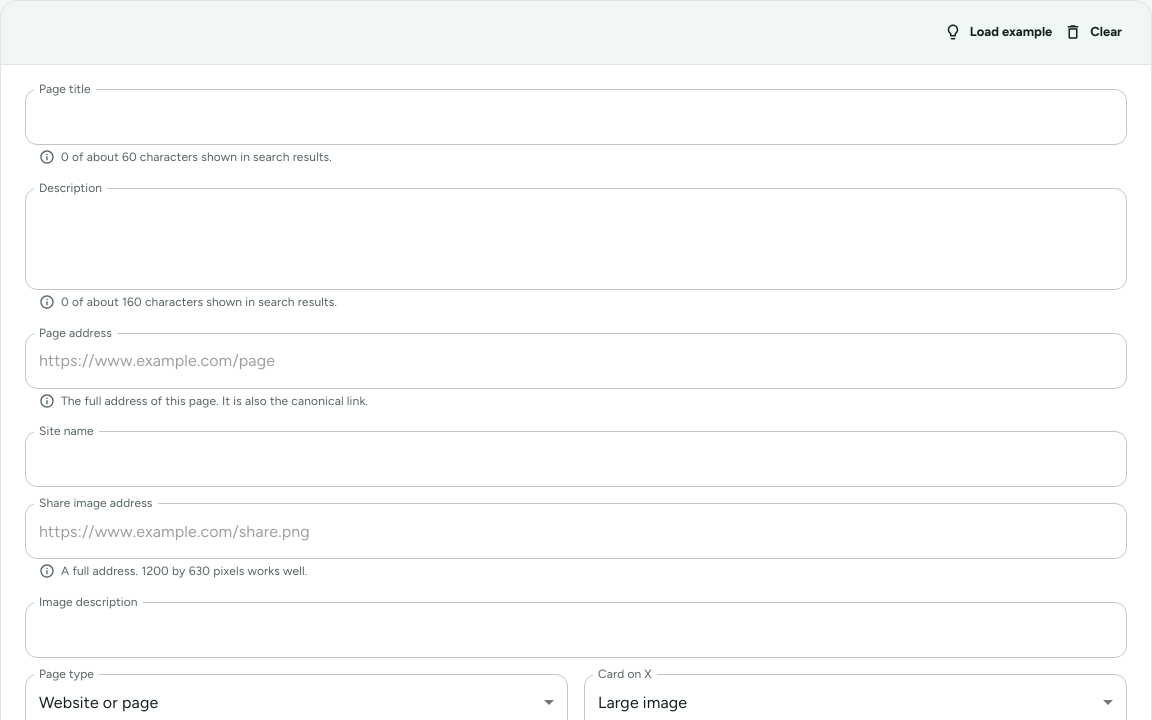
Test case: MetaTagTool › loads a complete example that raises no problems, and clears it again
Step 1. Click the button "Load example" → point(999, 32), box [941, 17, 1057, 48]
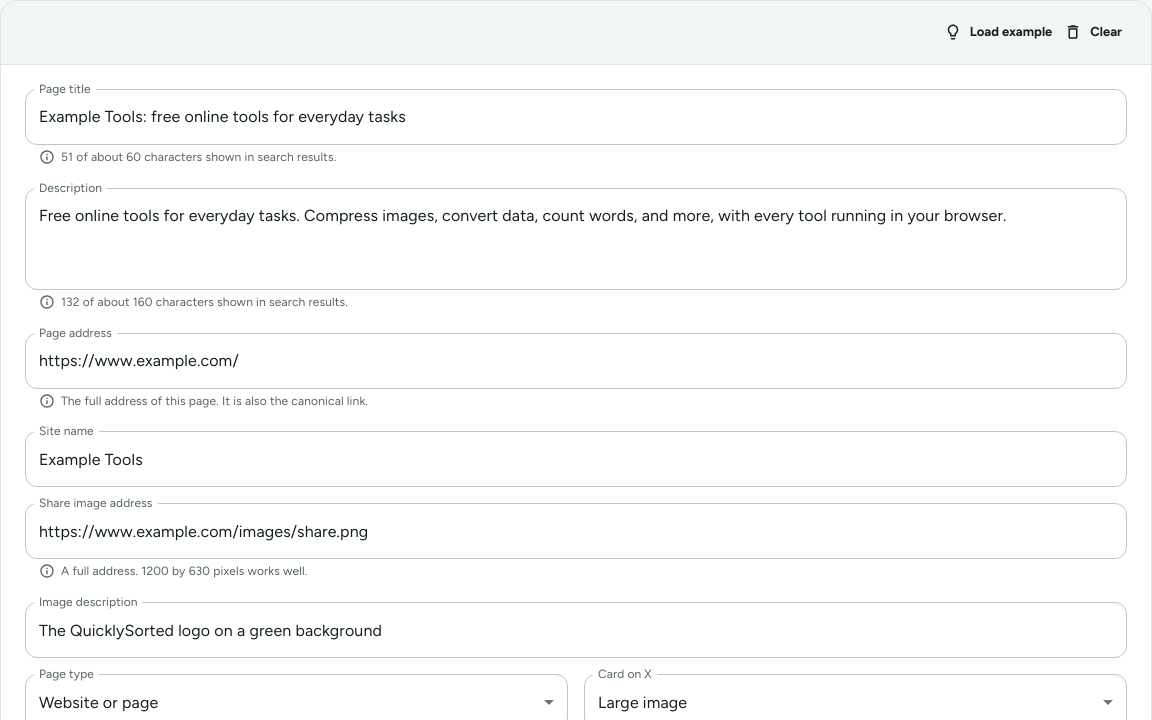
Step 2. Click the button "Clear" → point(1094, 32), box [1061, 17, 1127, 48]
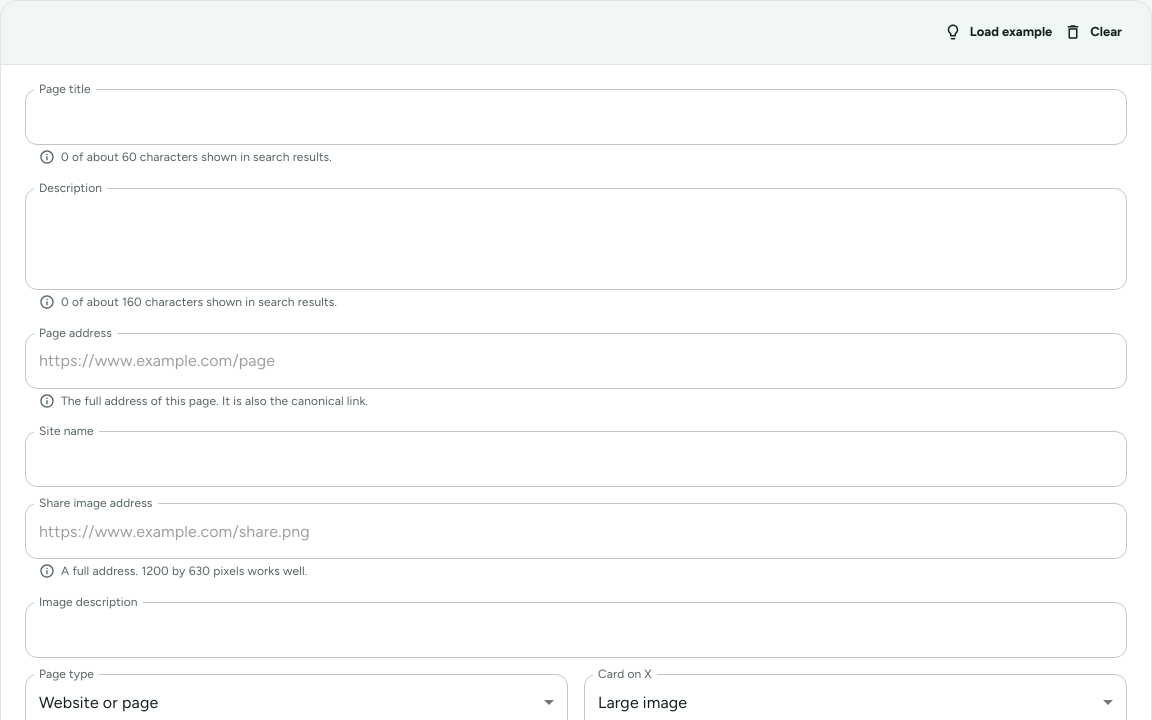
Expected: the field labelled "Page title" is empty, [25, 89, 1127, 145]
